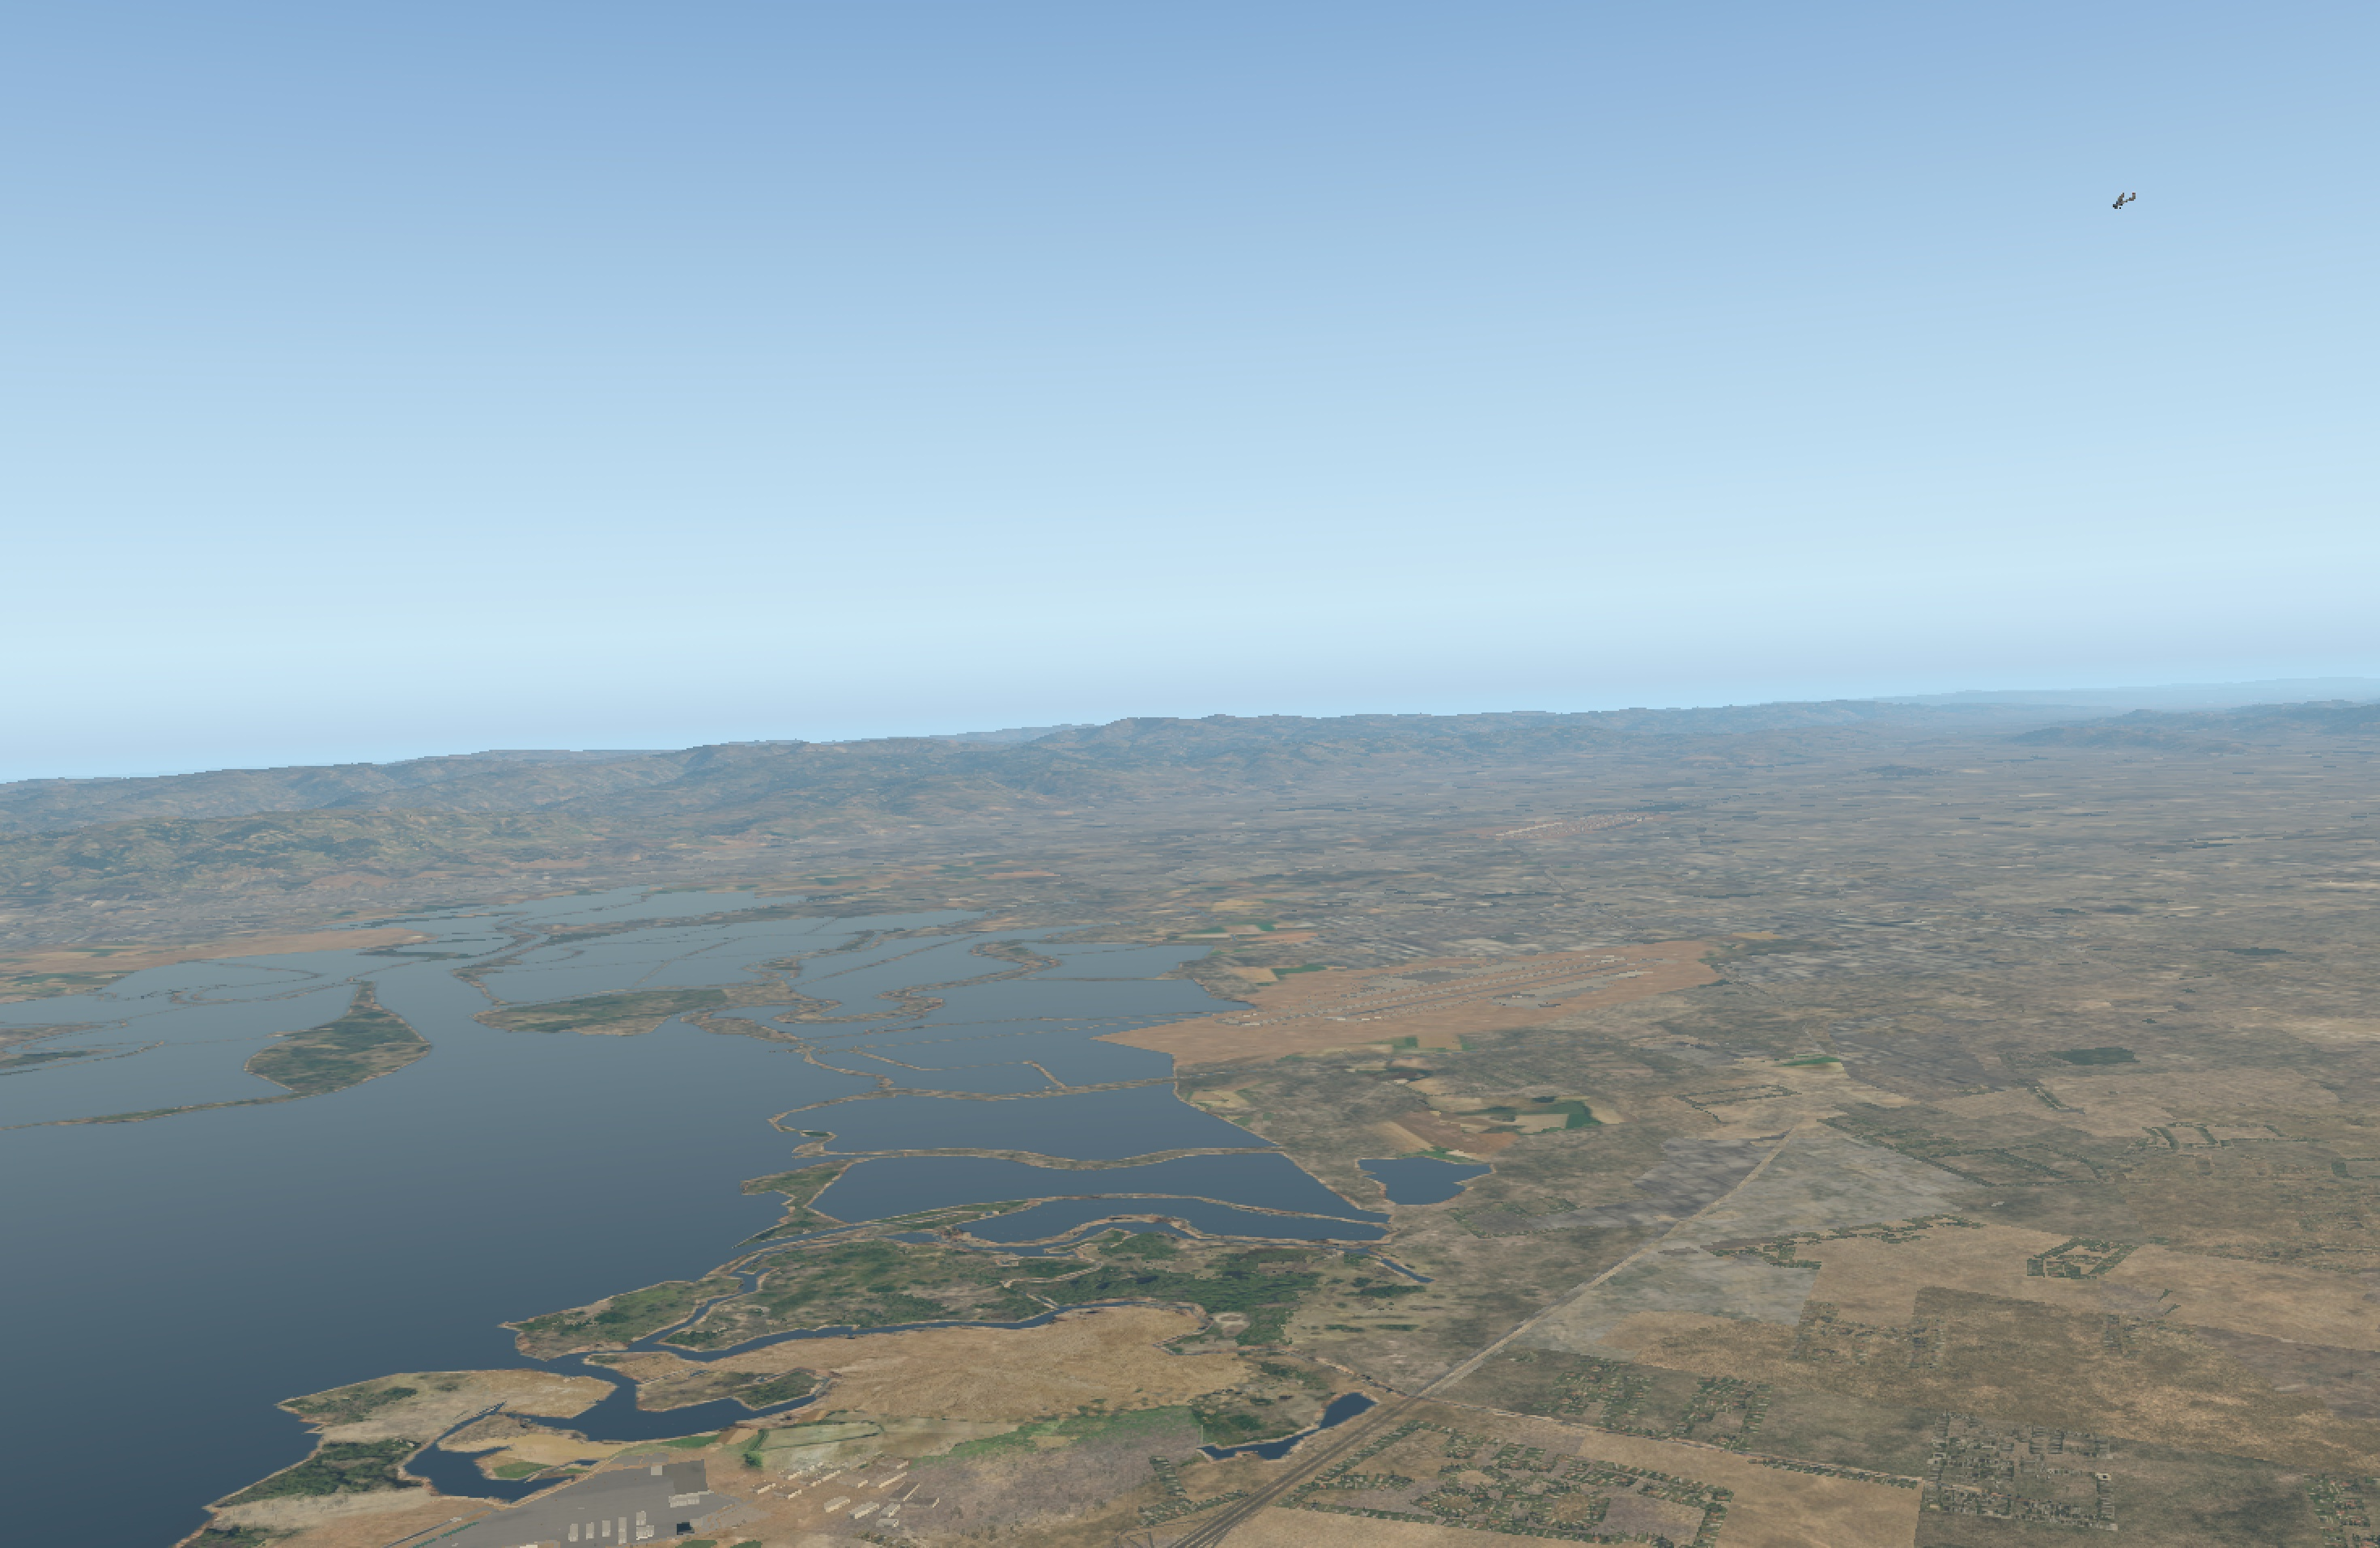aircraft: (2108, 200, 2130, 208)
